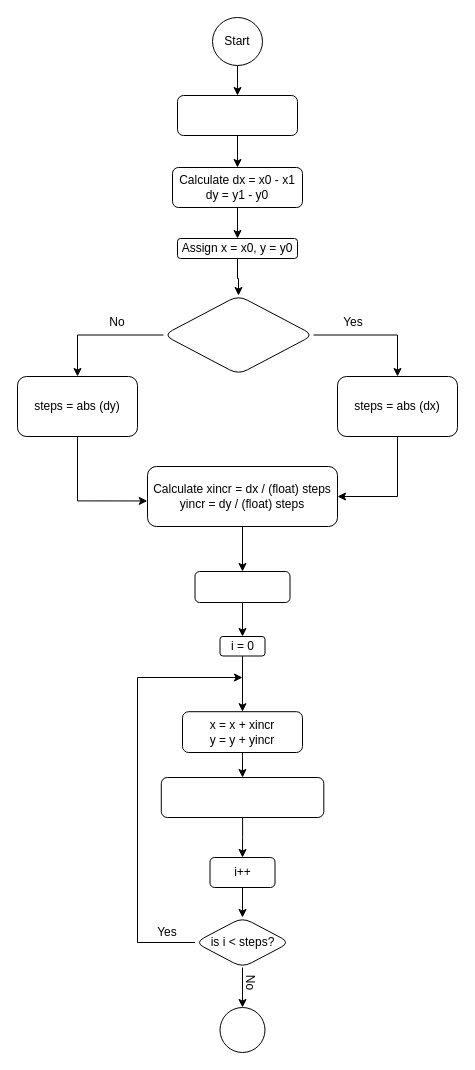
The diagram is 475 pixels wide and 1070 high, and some of its shapes have lost their labels. The box of each missing label's shape, as (x1, y1, x2, y2) in pixels:
is abs (dx) > abs (dy): (162, 294, 314, 374)
Plot (round (x), round (y)): (160, 776, 324, 818)
Plot (x, y): (194, 570, 290, 602)
Stop: (219, 1006, 265, 1052)
Take two inputs (x0,y0) and (x1,y1): (176, 94, 298, 136)
